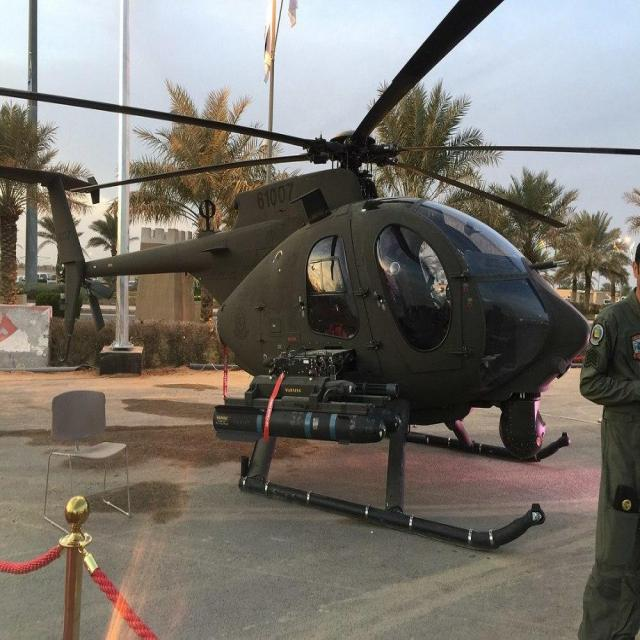MIL_HELO: (8, 8, 640, 550)
